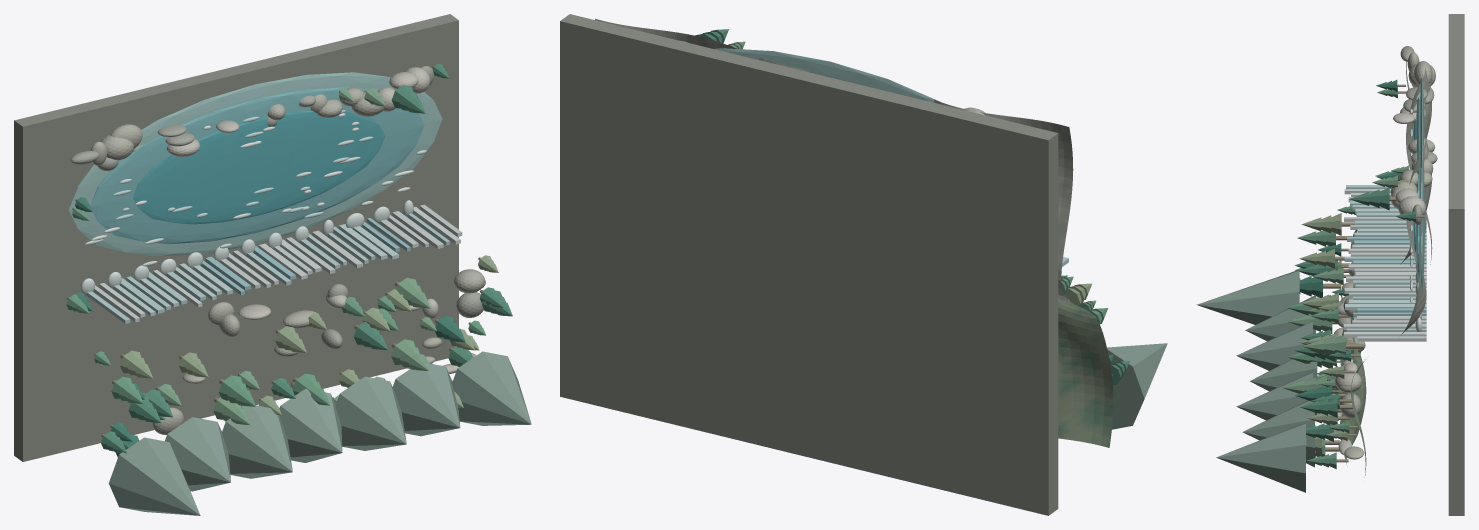
Rendered from nuorilang-waterfall.glb.
3 renders of one model, left to right at view 1: azimuth 30°, elevation 25°; view 2: azimuth 150°, elevation 25°; view 3: azimuth 270°, elevation 25°, orthographic. The views are drawn at different scales.
Parts seen in each view (by area): view 1: part_0000, part_0056, part_0055, part_0054, part_0403, part_0409, part_0407, part_0405, part_0408, part_0406, part_0404, part_0116 (+1 smaller); view 2: part_0000, part_0001, part_0403, part_0054; view 3: part_0000, part_0409, part_0001, part_0403, part_0405, part_0408, part_0407, part_0406, part_0404, part_0054, part_0055, part_0052 (+16 smaller).
Boxes of the visible parts, x1=… form: part_0000: x1=14, y1=14, x2=458, y2=461; part_0056: x1=133, y1=110, x2=385, y2=224; part_0055: x1=90, y1=87, x2=424, y2=244; part_0054: x1=69, y1=72, x2=442, y2=256; part_0403: x1=108, y1=437, x2=200, y2=515; part_0409: x1=452, y1=351, x2=531, y2=425; part_0407: x1=335, y1=376, x2=406, y2=450; part_0405: x1=222, y1=405, x2=292, y2=478; part_0408: x1=393, y1=363, x2=460, y2=436; part_0406: x1=279, y1=388, x2=342, y2=462; part_0404: x1=165, y1=417, x2=230, y2=491; part_0116: x1=454, y1=269, x2=484, y2=293; part_0000: x1=560, y1=14, x2=1058, y2=515; part_0001: x1=595, y1=19, x2=1113, y2=447; part_0403: x1=1107, y1=343, x2=1167, y2=429; part_0054: x1=714, y1=48, x2=940, y2=102; part_0000: x1=1448, y1=14, x2=1464, y2=515; part_0409: x1=1216, y1=422, x2=1305, y2=492; part_0001: x1=1340, y1=61, x2=1432, y2=477; part_0403: x1=1196, y1=270, x2=1299, y2=324; part_0405: x1=1236, y1=321, x2=1312, y2=370; part_0408: x1=1242, y1=400, x2=1314, y2=467; part_0407: x1=1236, y1=371, x2=1312, y2=420; part_0406: x1=1250, y1=359, x2=1317, y2=414; part_0404: x1=1245, y1=295, x2=1315, y2=341; part_0054: x1=1419, y1=77, x2=1424, y2=293; part_0055: x1=1416, y1=97, x2=1419, y2=279; part_0052: x1=1344, y1=332, x2=1426, y2=337.
Bounding box in the file's own units: 2.45 × 1.8 × 1.43.
